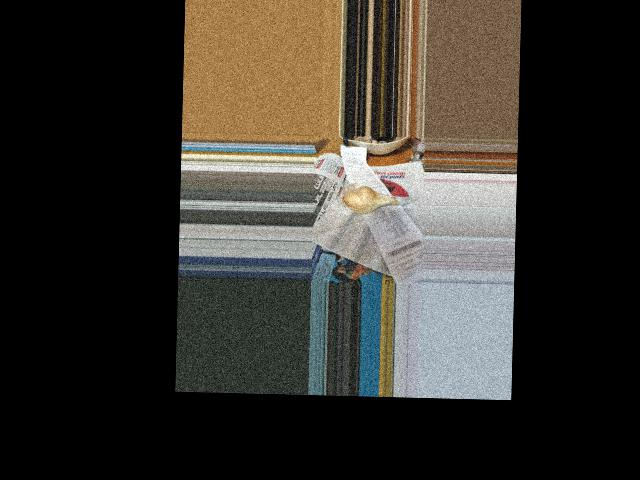onion: (343, 186, 391, 213)
